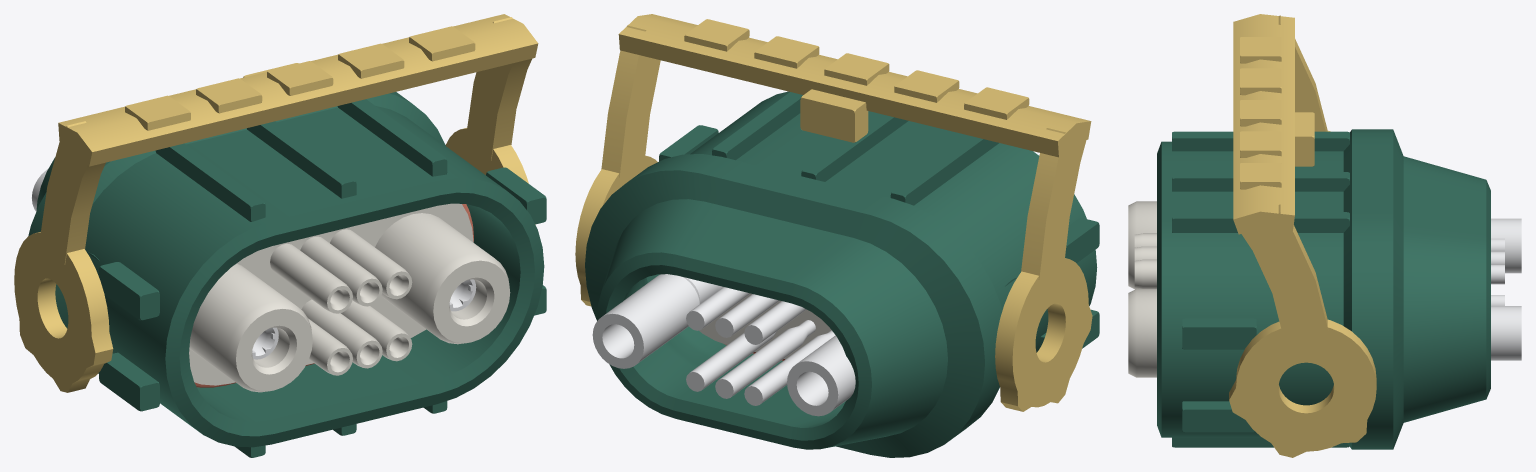
The model's file is sealed-heavy-duty.glb.
3 views of the same model, side by side, from view 1: azimuth 30°, elevation 25°; view 2: azimuth 150°, elevation 25°; view 3: azimuth 270°, elevation 25° (orthographic). The views are drawn at different scales.
Visible parts, largest first — view 1: Outer_Shroud, Lever_Cam_Latch, Cavity_Block, Power_Contacts; view 2: Outer_Shroud, Lever_Cam_Latch, Power_Contacts, Cavity_Block; view 3: Outer_Shroud, Lever_Cam_Latch, Cavity_Block, Power_Contacts.
Boxes of the visible parts, x1,y1,x2,y2 form: Outer_Shroud: (28,92,546,457); Lever_Cam_Latch: (14,14,538,392); Cavity_Block: (189,203,510,392); Power_Contacts: (32,169,476,359); Outer_Shroud: (585,91,1099,457); Lever_Cam_Latch: (575,14,1092,411); Power_Contacts: (592,274,855,416); Cavity_Block: (699,293,831,359); Outer_Shroud: (1157,129,1490,449); Lever_Cam_Latch: (1229,14,1376,457); Cavity_Block: (1128,201,1156,377); Power_Contacts: (1491,218,1521,360).
Size of the model in its own units: 2.4 by 1.67 by 2.02.
